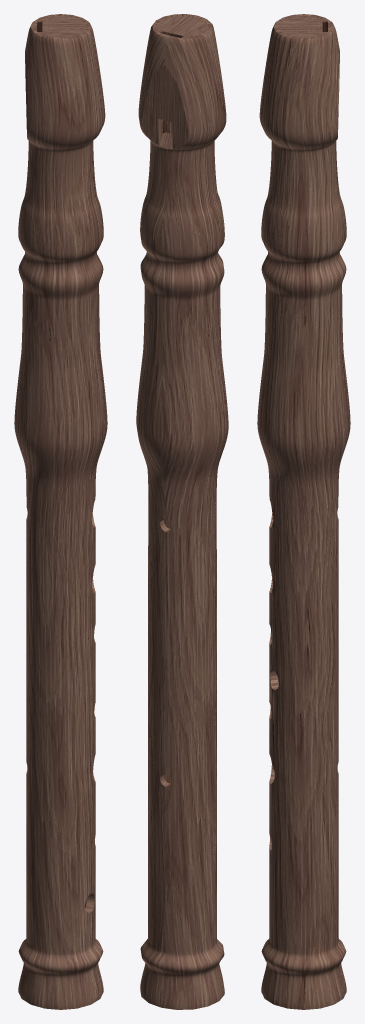
The model's file is 3dsopilka.gltf.
The picture shows the model from 3 angles, left to right: view 1: azimuth 90°, elevation 25°; view 2: azimuth 150°, elevation 25°; view 3: azimuth 270°, elevation 25°; orthographic projection.
Parts seen in each view (by area): view 1: Sopilka; view 2: Sopilka; view 3: Sopilka.
Boxes of the visible parts, box(x1,y1,x2,y2) form: Sopilka: box(14, 14, 107, 1009); Sopilka: box(136, 14, 228, 1009); Sopilka: box(257, 14, 350, 1009).
Size of the model in its own units: 0.3948 by 4.52 by 0.3948.
Materials: 1 (1 with a texture image).
